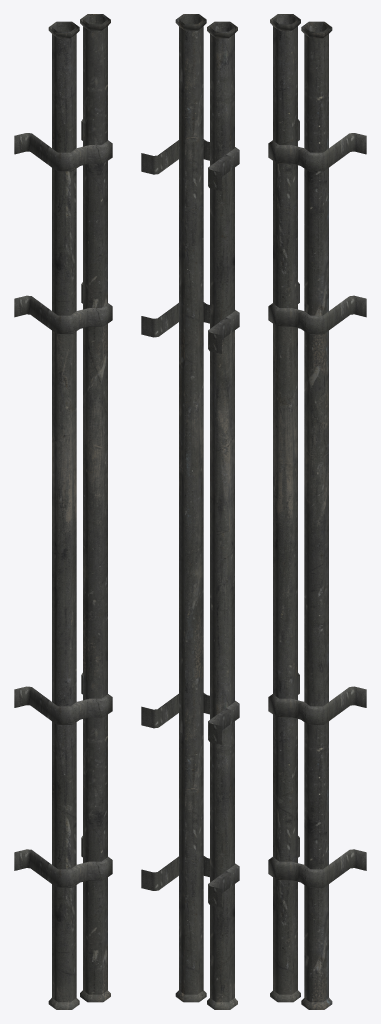
Rendered from SM_Corridor_Pipe_Set_Gray_C.fbx.
3 renders of one model, left to right at view 1: azimuth 30°, elevation 25°; view 2: azimuth 150°, elevation 25°; view 3: azimuth 330°, elevation 25°, orthographic.
Parts seen in each view (by area): view 1: SM_Corridor_Pipe_Set_Gray_C; view 2: SM_Corridor_Pipe_Set_Gray_C; view 3: SM_Corridor_Pipe_Set_Gray_C.
Boxes of the visible parts, box(x1,y1,x2,y2) form: SM_Corridor_Pipe_Set_Gray_C: box(14, 14, 112, 1009); SM_Corridor_Pipe_Set_Gray_C: box(141, 14, 239, 1009); SM_Corridor_Pipe_Set_Gray_C: box(268, 14, 366, 1009).
Size of the model in its own units: 26 by 300 by 18.89.
